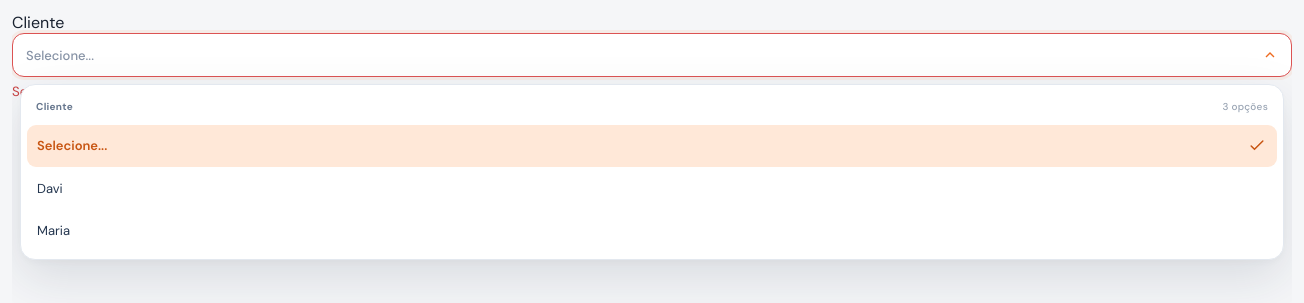
it: required apresenta orientação e impede seleção de opção desabilitada
Expected: the message shows "Selecione uma opção", [12,83,241,100]
What coordinates should you click on to do the following:
click the option "Davi"
I would click on:
 (50, 188)
Its box is [37,180,63,197].
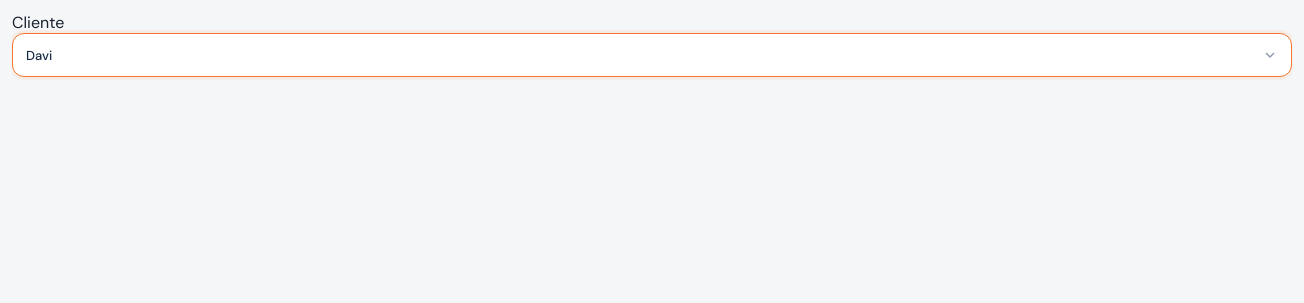
Now the message "Selecione uma opção para continuar." is gone
